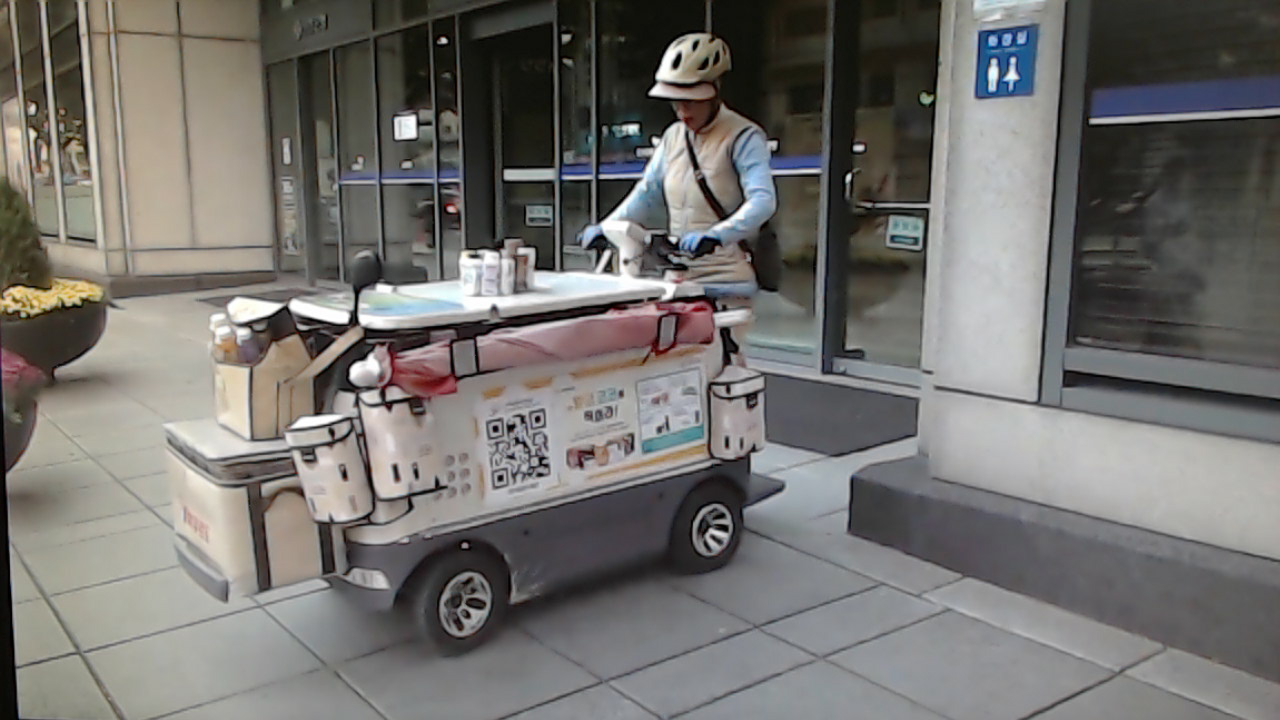Yakurut: (577, 20, 798, 474)
